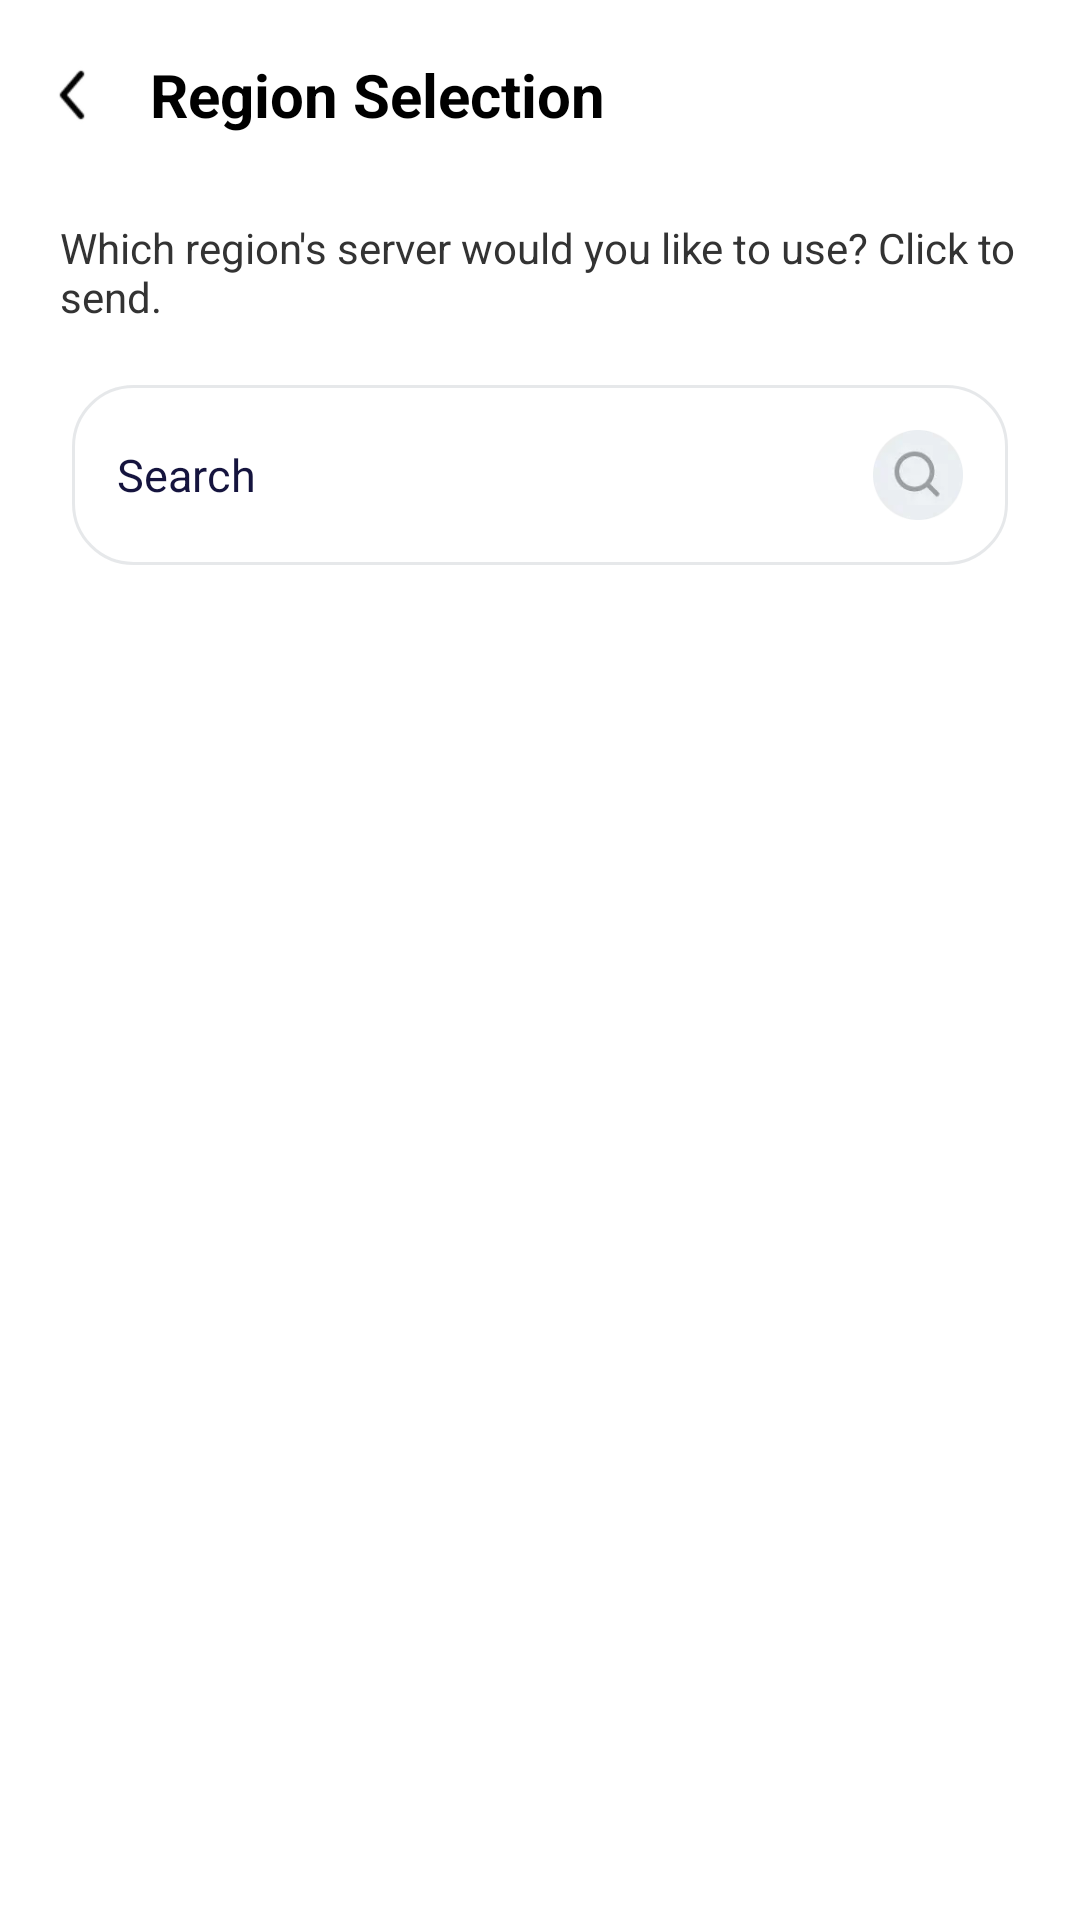

Point at icon controls on the screen. Image size 1080 x 1920, points as (x,y).
flash return: (72,95)
